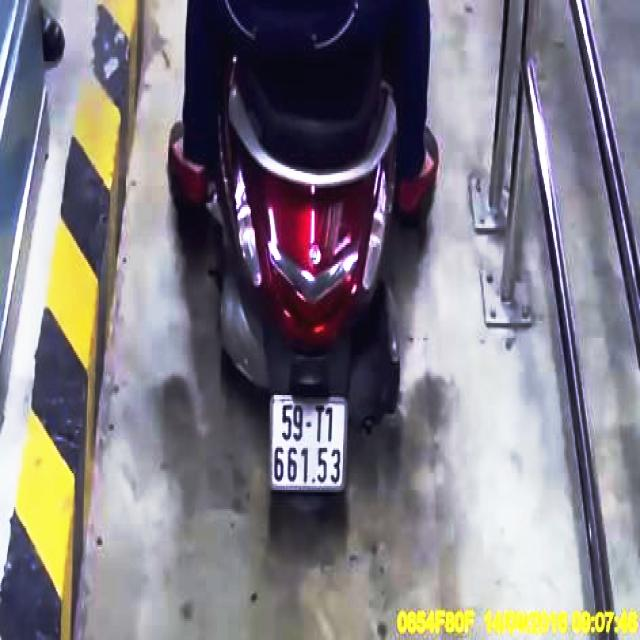license_plate: (271, 398, 351, 493)
